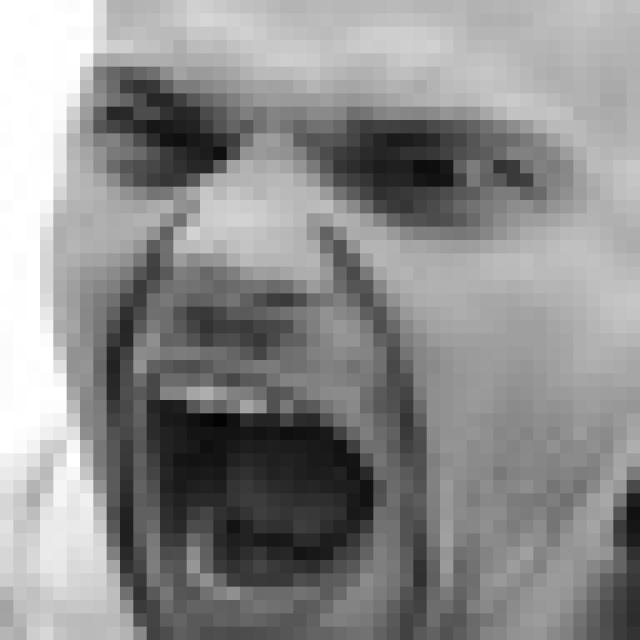angry: (67, 55, 582, 640)
